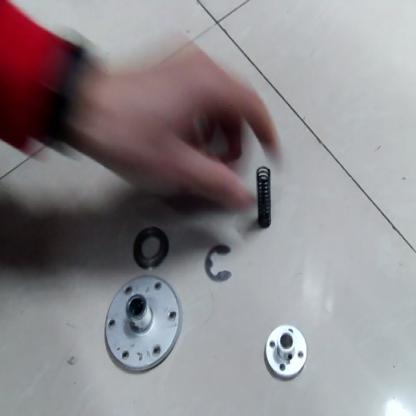FOD: (102, 274, 181, 376), (262, 323, 309, 381), (251, 160, 280, 233), (129, 223, 172, 270), (203, 237, 235, 285)
